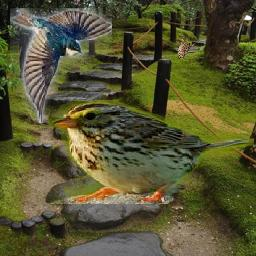Sparrow: (48, 100, 254, 204), (177, 37, 195, 60)
Swallow: (10, 9, 112, 124)
